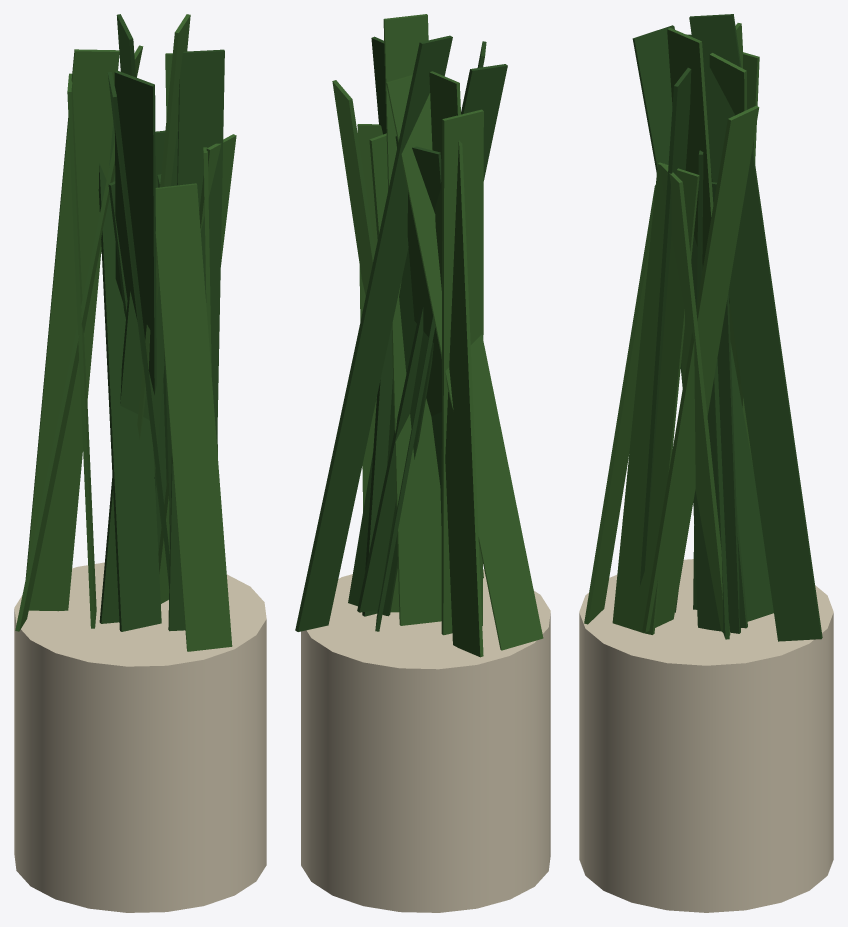
The model's file is SM_80s_SnakePlant.glb.
The picture shows the model from 3 angles, left to right: view 1: azimuth 30°, elevation 25°; view 2: azimuth 150°, elevation 25°; view 3: azimuth 270°, elevation 25°; orthographic projection.
Visible parts, largest first — view 1: SM_80s_SnakePlant; view 2: SM_80s_SnakePlant; view 3: SM_80s_SnakePlant.
Boxes of the visible parts, <box> form: SM_80s_SnakePlant: <box>14,14,266,912</box>; SM_80s_SnakePlant: <box>295,14,550,912</box>; SM_80s_SnakePlant: <box>579,14,833,912</box>.
Size of the model in its own units: 0.39 by 1.35 by 0.3696.
